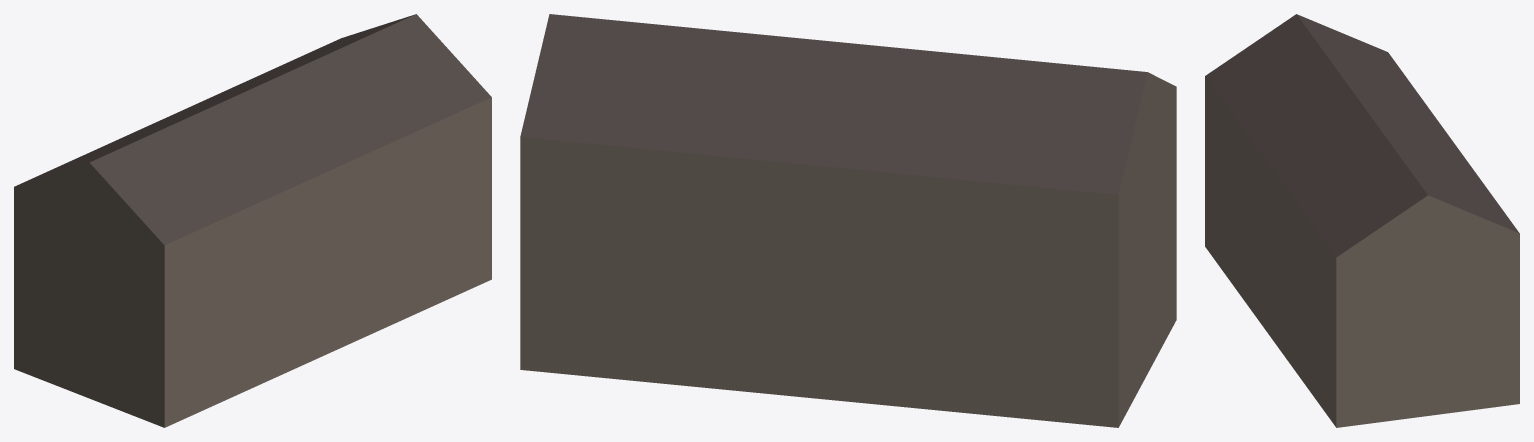
The picture shows the model from 3 angles, left to right: view 1: azimuth 30°, elevation 25°; view 2: azimuth 150°, elevation 25°; view 3: azimuth 270°, elevation 25°; orthographic projection. The views are drawn at different scales.
Parts seen in each view (by area): view 1: HP-w859447960; view 2: HP-w859447960; view 3: HP-w859447960.
Part boxes in pixels (x1,y1,x2,y2): HP-w859447960: (14, 14, 491, 427); HP-w859447960: (520, 14, 1176, 427); HP-w859447960: (1205, 14, 1519, 427).
Bounding box in the file's own units: 15.5 × 7.77 × 10.05.
